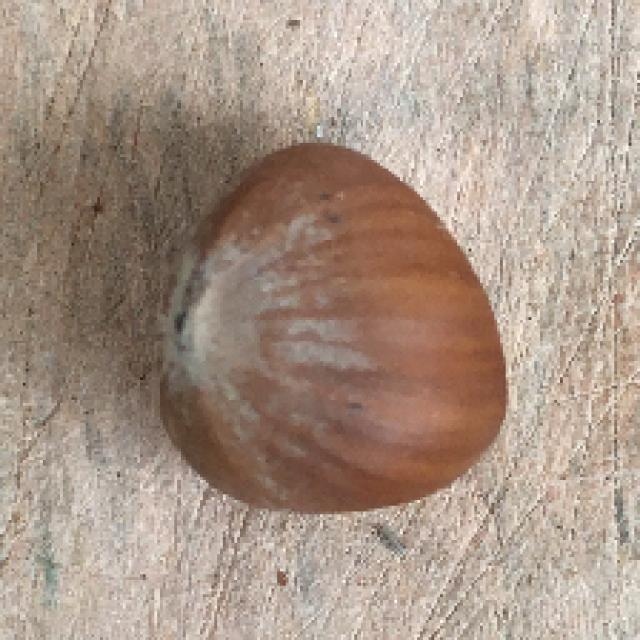qualityHazelnut: (145, 137, 514, 531)
